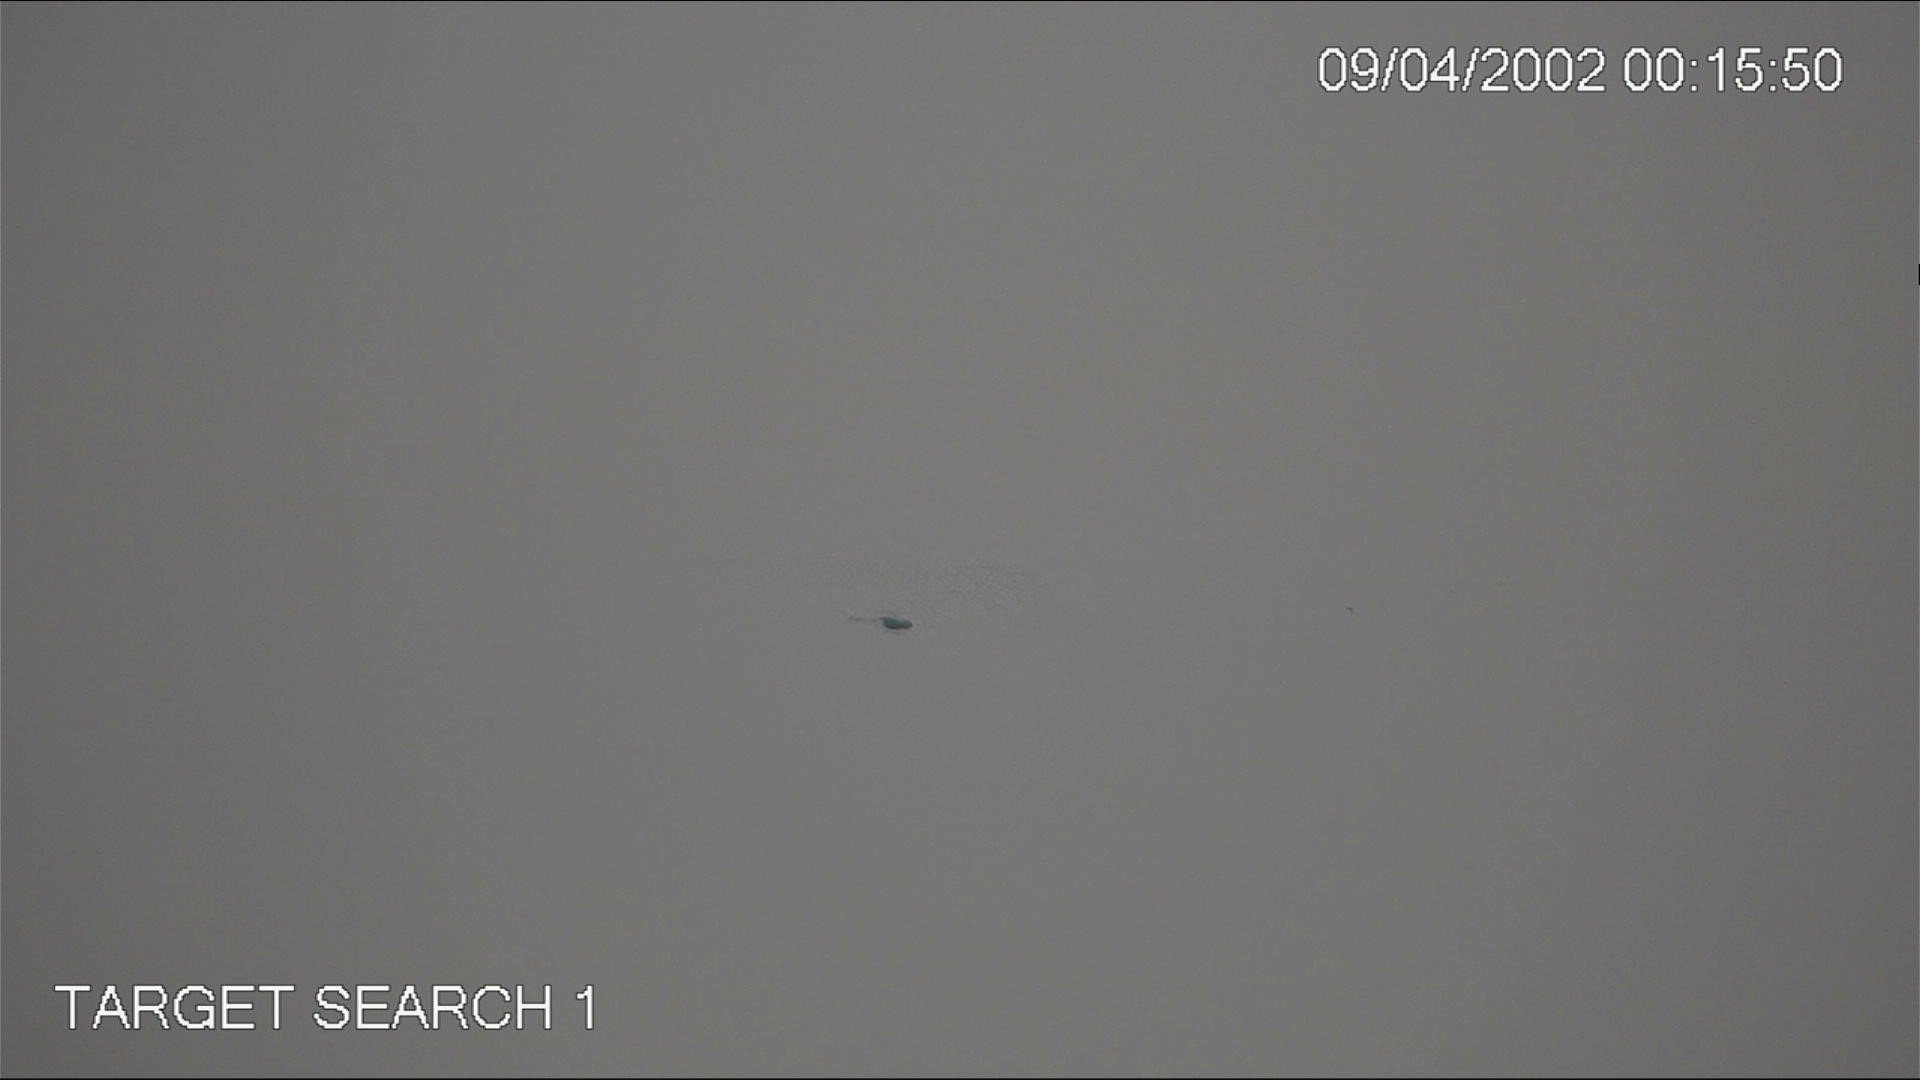SU_30: (849, 607, 916, 637)
